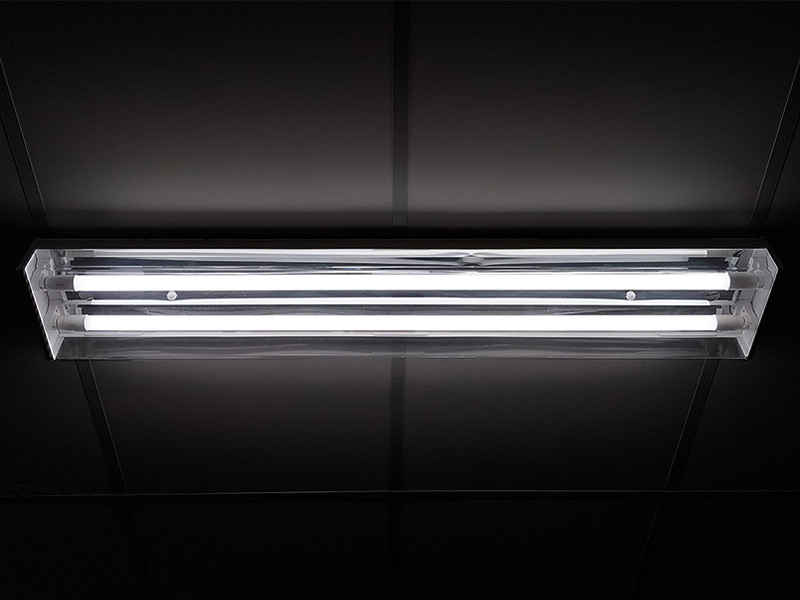Light_bulb: (49, 265, 750, 306)
